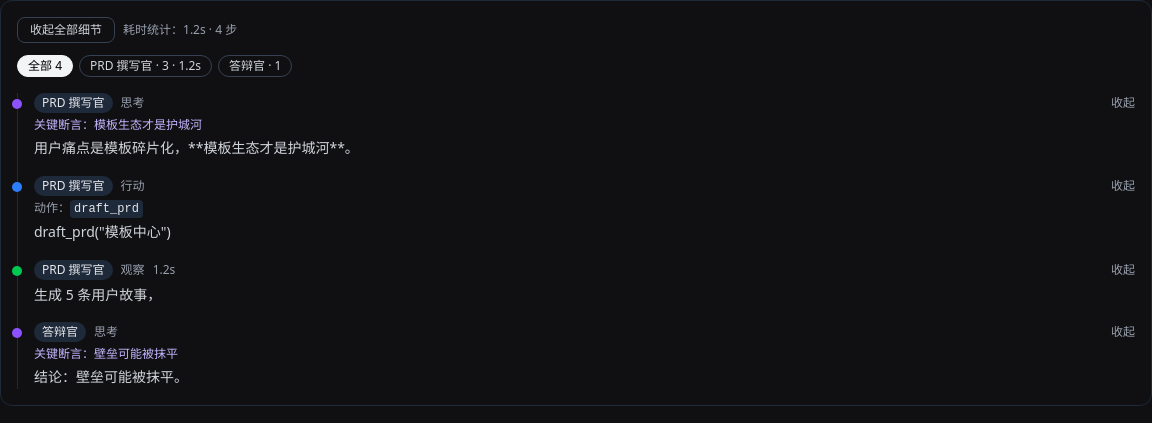
Test: ReasoningTimeline 交互（jsdom） › 按 Agent 筛选只保留该 Agent 的步骤，可切回全部
The width and height of the screenshot is (1152, 423).
Expected: the number of list items is 4, x1=34 y1=93 x2=1135 y2=160; x1=34 y1=176 x2=1135 y2=244; x1=34 y1=260 x2=1135 y2=306; x1=34 y1=322 x2=1135 y2=389
What coordinates should you click on to do the following:
click the button "PRD 撰写官 · 3 · 1.2s"
I would click on:
 (146, 66)
Its box is x1=79 y1=55 x2=212 y2=77.
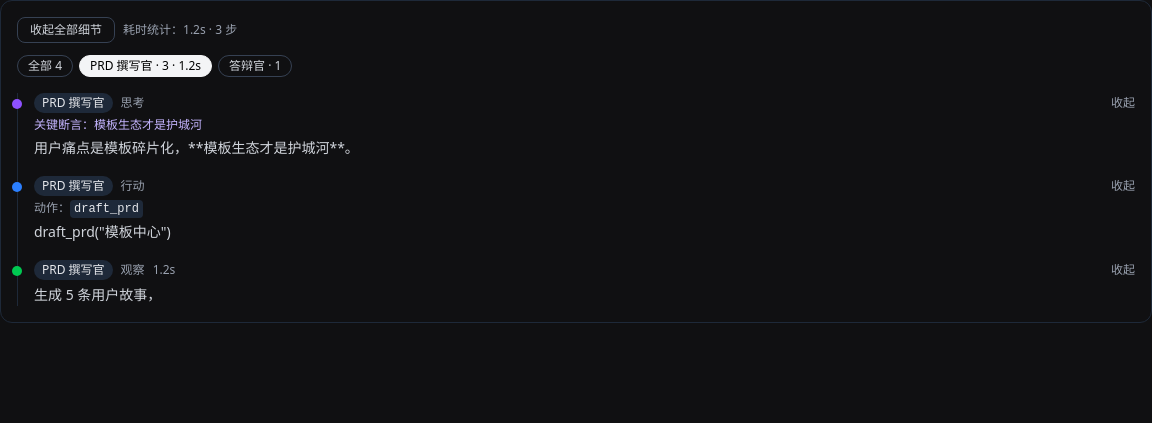
Expected: the number of list items is 3, x1=34 y1=93 x2=1135 y2=160; x1=34 y1=176 x2=1135 y2=244; x1=34 y1=260 x2=1135 y2=306
What coordinates should you click on to do the following:
click the button "全部 4"
I would click on:
 (45, 66)
Its box is x1=17 y1=55 x2=73 y2=77.
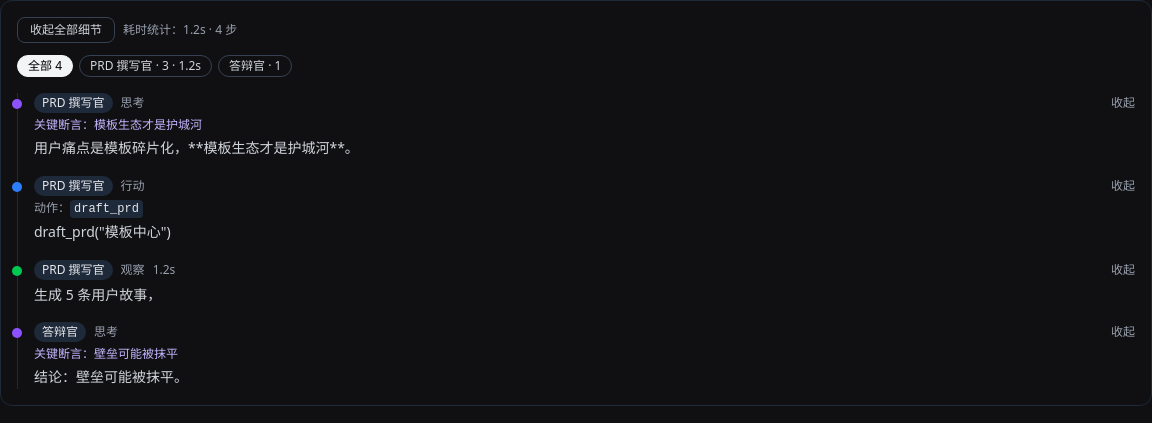
Expected: the number of list items is 4, x1=34 y1=93 x2=1135 y2=160; x1=34 y1=176 x2=1135 y2=244; x1=34 y1=260 x2=1135 y2=306; x1=34 y1=322 x2=1135 y2=389
